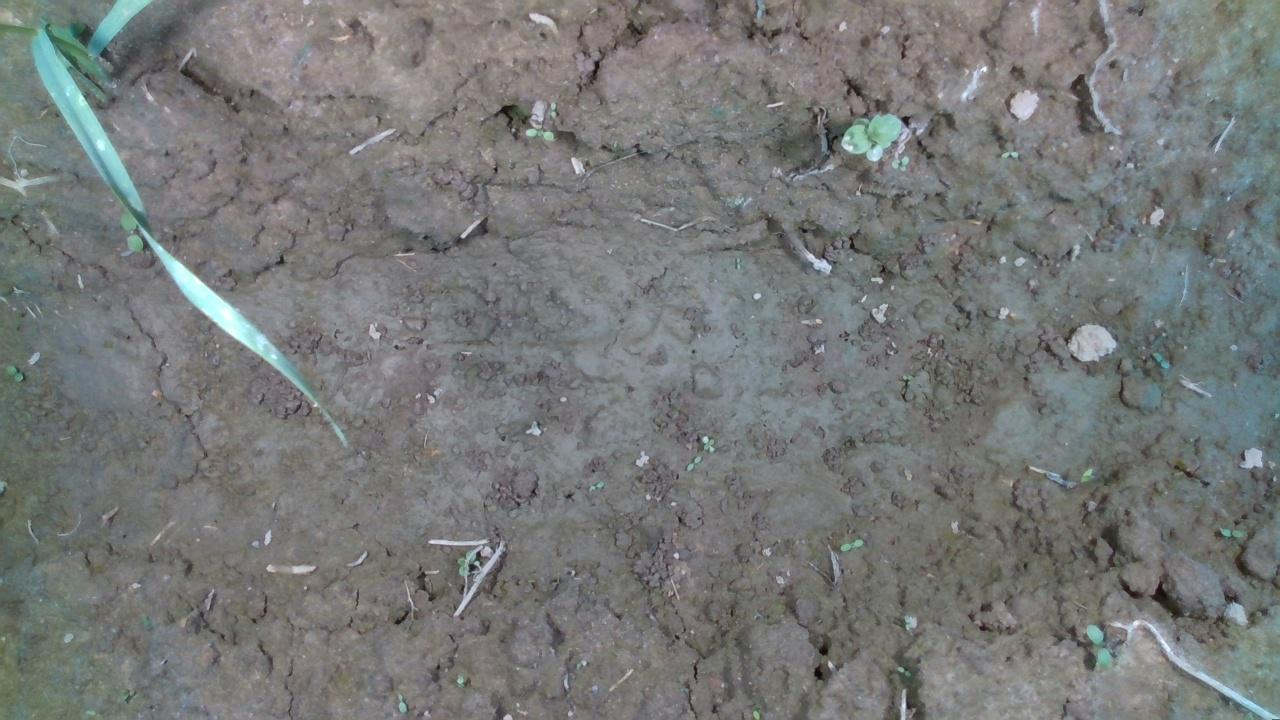weed: (678, 451, 726, 482), (836, 533, 870, 552), (1215, 521, 1249, 540), (582, 475, 609, 494)
